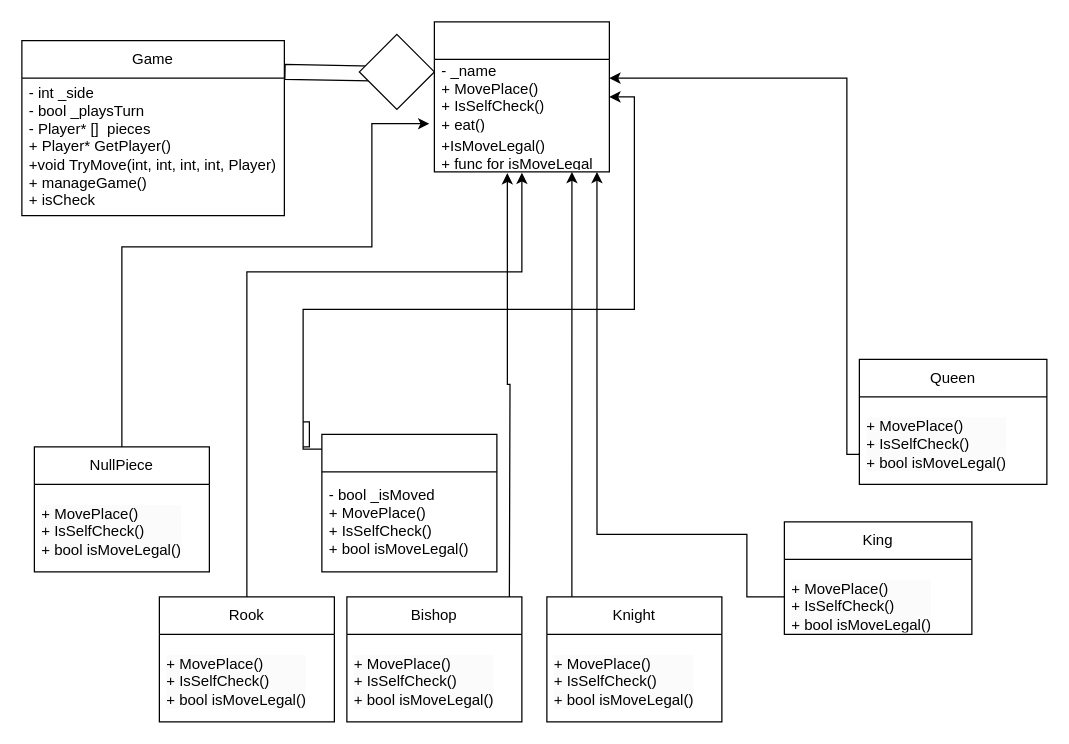
The diagram is 1069 pixels wide and 744 high, and some of its shapes have lost their labels. Each missing label, with the box of its shape:
Pawn: (321, 433, 497, 572)
Piece: (433, 21, 609, 172)
